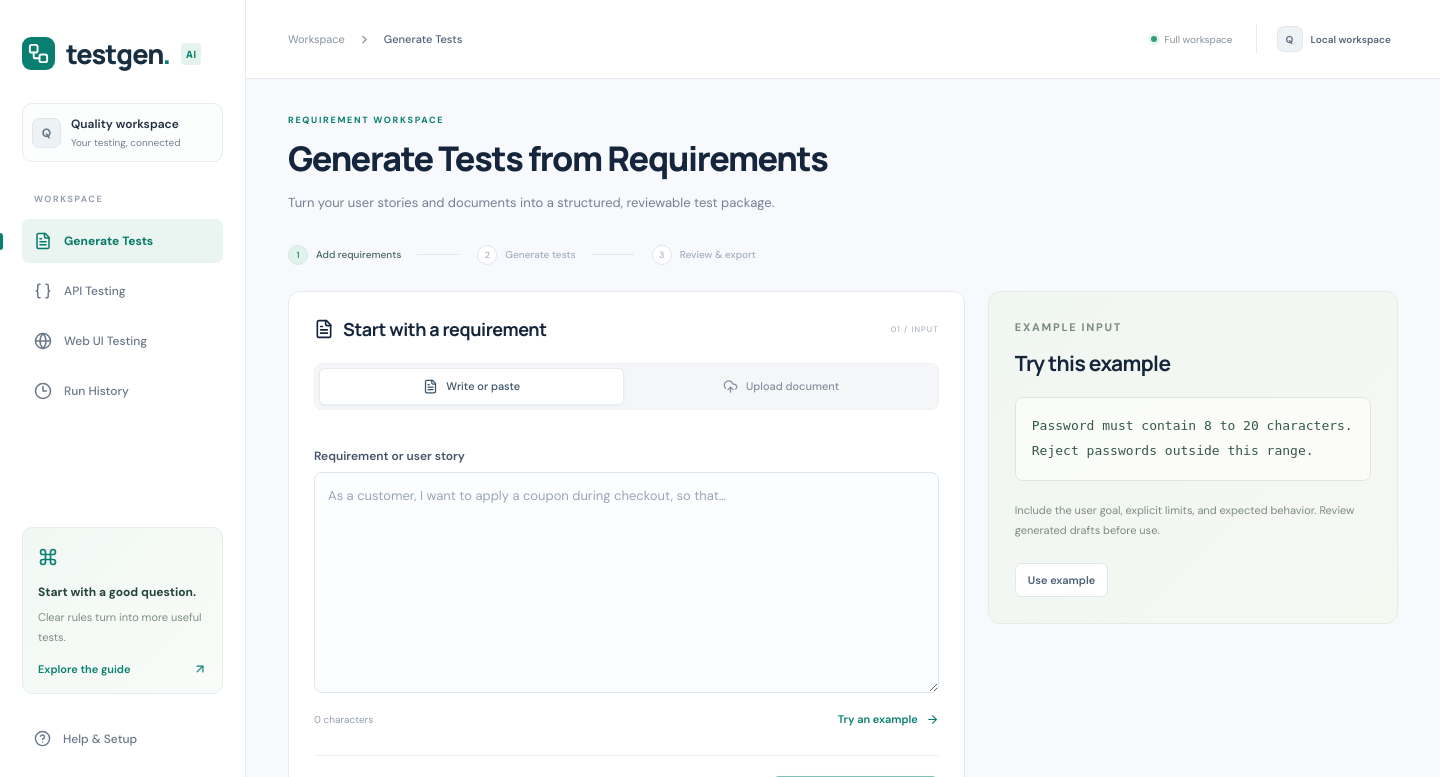
Test: full backend exposes all workspaces and a useful first action
Check: the heading "Generate Tests from Requirements" is shown, box [288,135,828,181]
Check: the link "API Testing" is shown, box [34,282,126,300]
What coordinates should you click on to do the following:
click the button "Try an example"
I would click on:
 (888, 719)
Its box is [838,708,939,730].
(page scrolled)
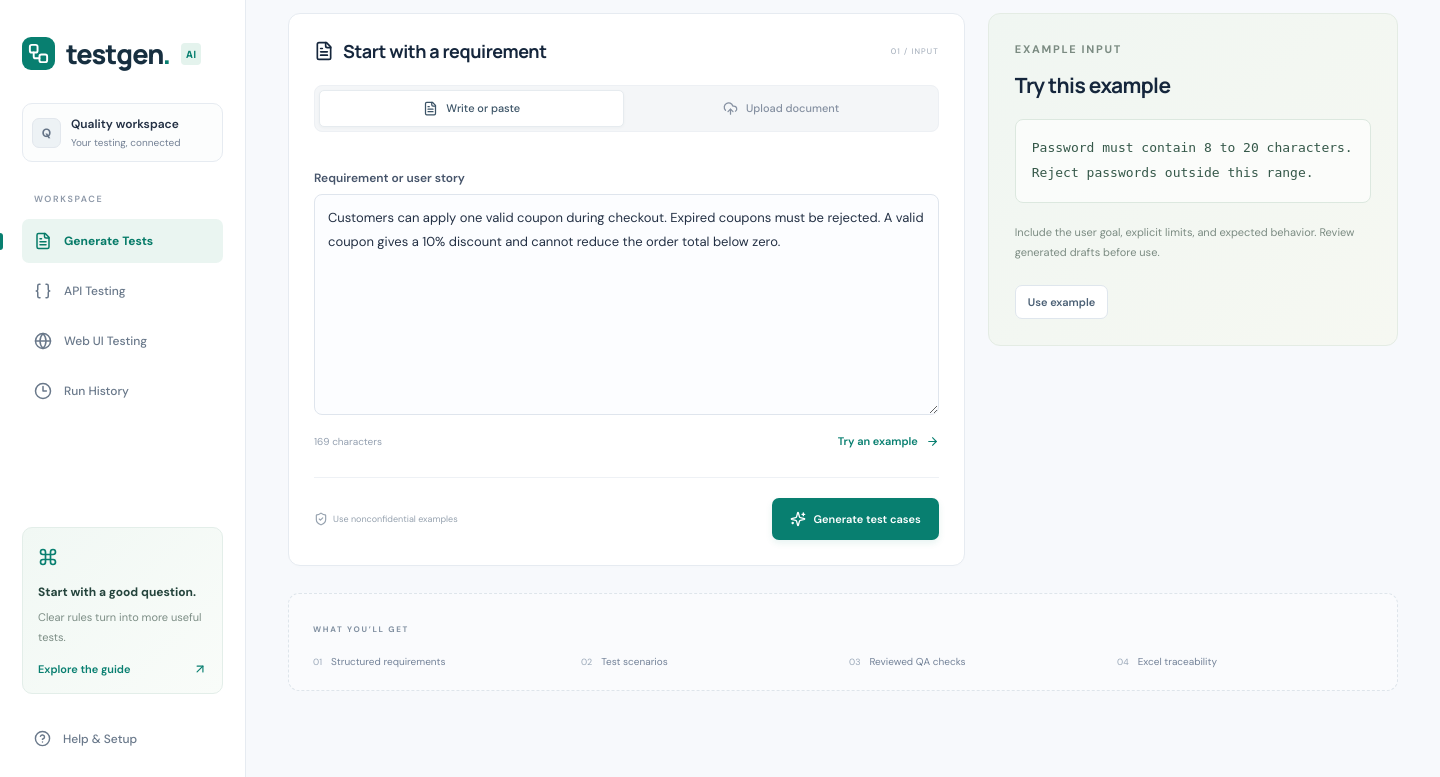
Check: the button "Generate test cases" is enabled, box [772,498,939,540]
